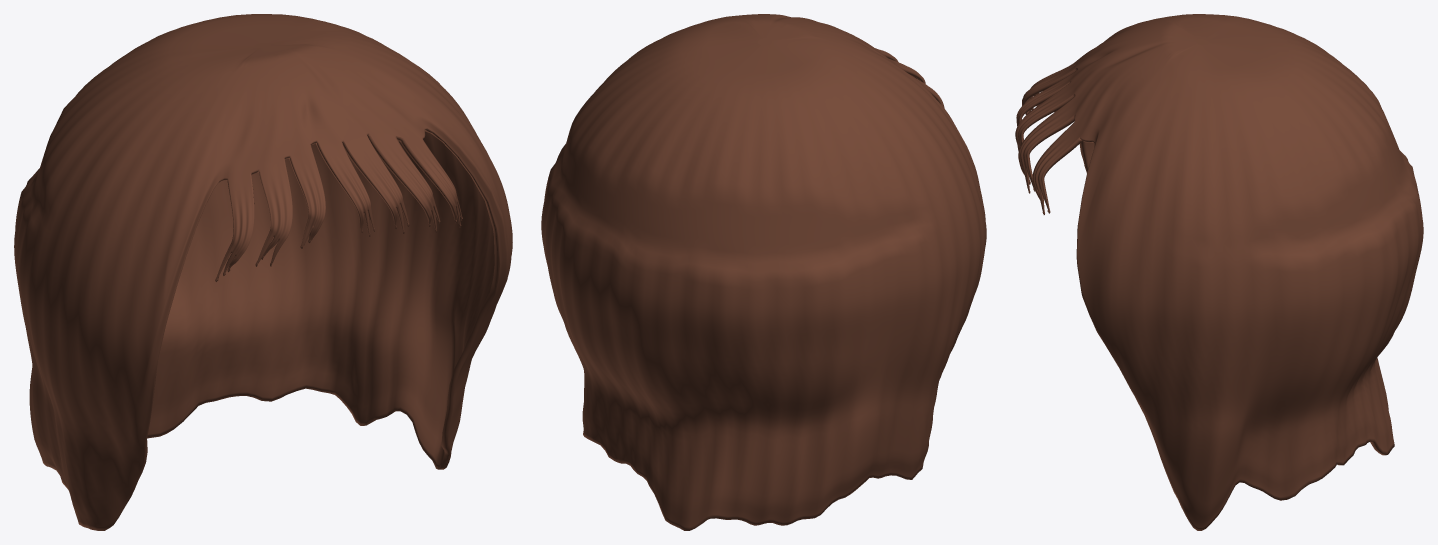
File: side-sweep-bucket.glb
3 renders of one model, left to right at view 1: azimuth 30°, elevation 25°; view 2: azimuth 150°, elevation 25°; view 3: azimuth 270°, elevation 25°, orthographic. The views are drawn at different scales.
Parts seen in each view (by area): view 1: Wispy bangs / continuous crown; view 2: Wispy bangs / continuous crown; view 3: Wispy bangs / continuous crown.
Boxes of the visible parts, x1,y1,x2,y2 form: Wispy bangs / continuous crown: (14, 14, 512, 530); Wispy bangs / continuous crown: (541, 14, 986, 530); Wispy bangs / continuous crown: (1015, 14, 1423, 530).
Bounding box in the file's own units: 0.8388 × 0.8731 × 0.7734.
